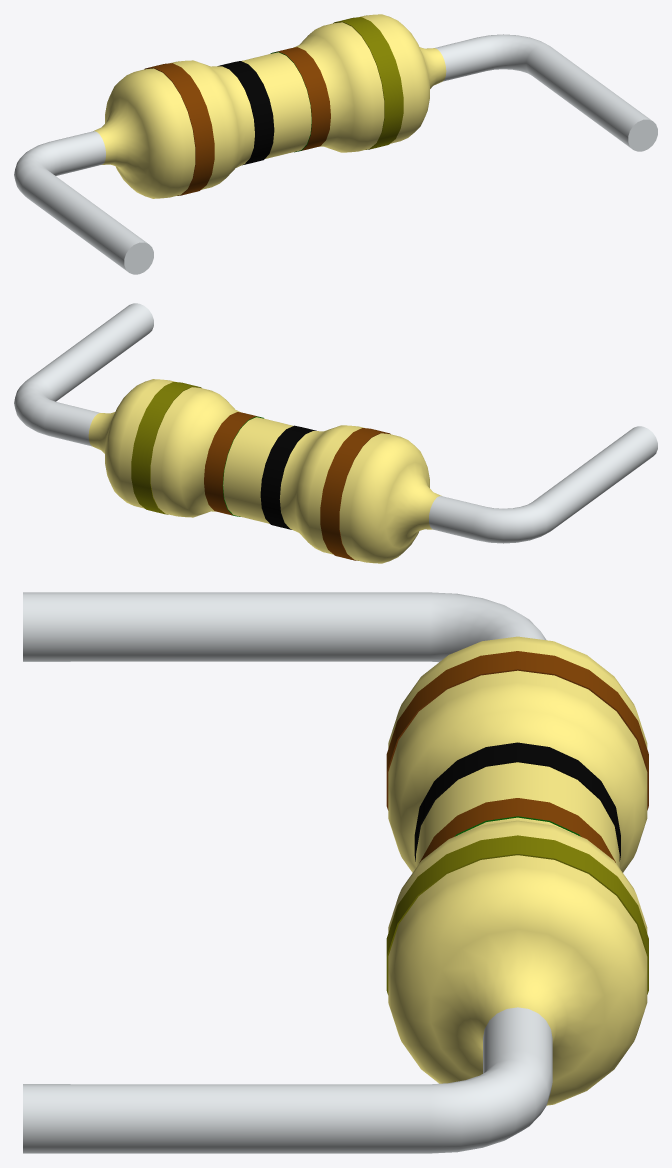
3 renders of one model, top to bottom at view 1: azimuth 30°, elevation 25°; view 2: azimuth 150°, elevation 25°; view 3: azimuth 270°, elevation 25°, orthographic. The views are drawn at different scales.
Visible parts, largest first — view 1: Extrude-Thin4; view 2: Extrude-Thin4; view 3: Extrude-Thin4.
Boxes of the visible parts, x1,y1,x2,y2 form: Extrude-Thin4: [14, 14, 657, 274]; Extrude-Thin4: [14, 303, 657, 563]; Extrude-Thin4: [23, 592, 648, 1153].
Bounding box in the file's own units: 0.424 × 0.091 × 0.215.
